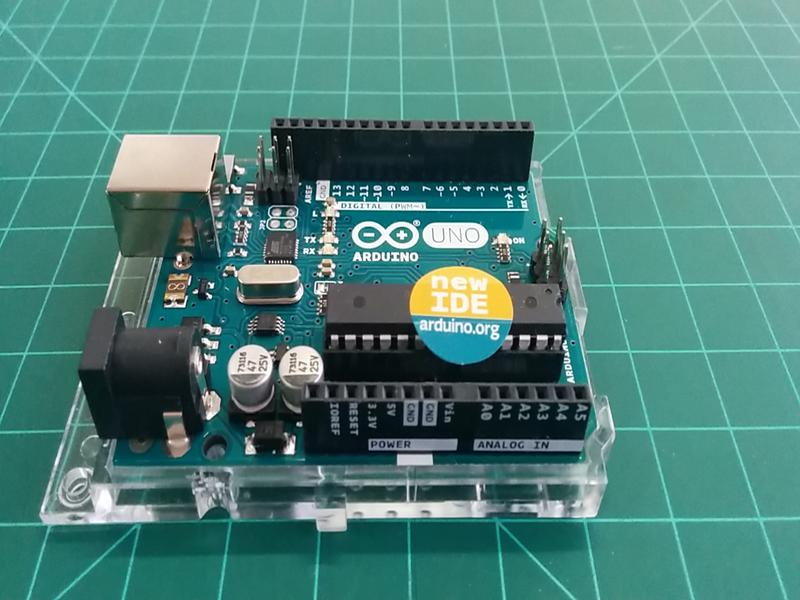Arduino UNO: (79, 111, 617, 480)
